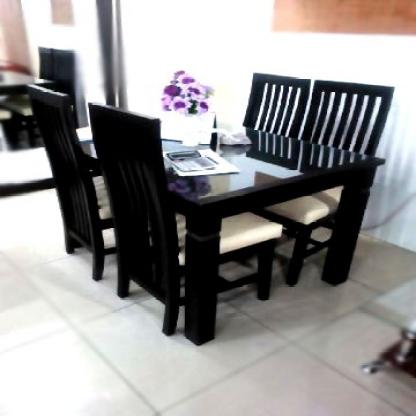Dining Table: (23, 76, 416, 338)
